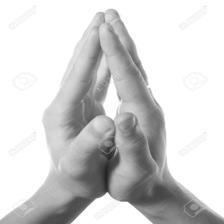Hand: (29, 0, 208, 207), (102, 6, 184, 202), (41, 11, 111, 196)
